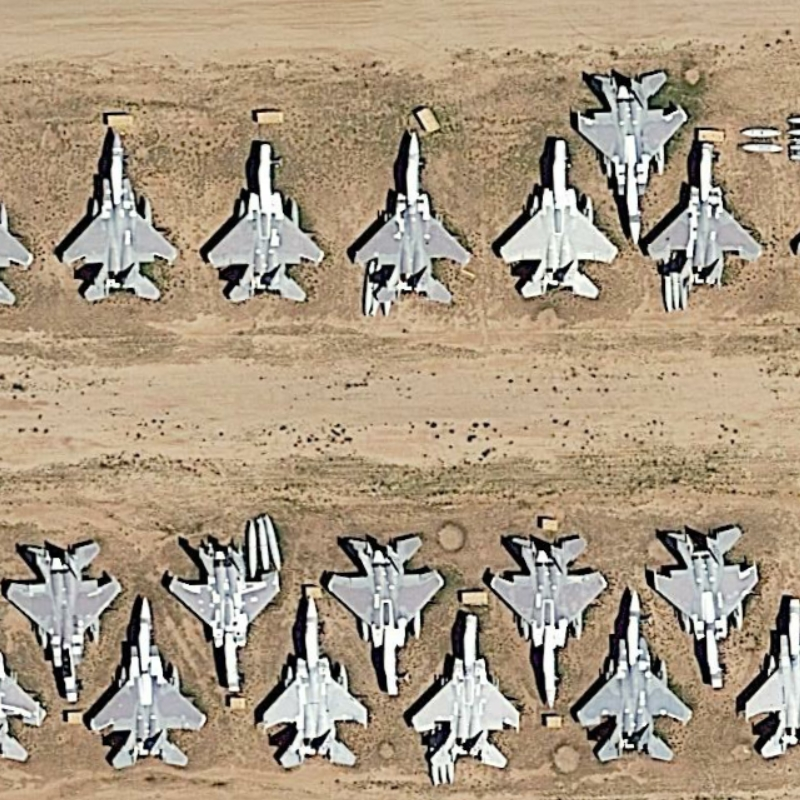A13: (479, 520, 613, 709), (350, 123, 477, 316), (496, 122, 621, 313), (320, 524, 454, 700), (56, 120, 181, 308), (569, 583, 697, 766), (203, 129, 331, 308), (400, 600, 528, 779), (256, 589, 378, 773), (568, 65, 691, 245), (646, 517, 770, 692), (87, 595, 206, 777), (643, 127, 772, 294), (4, 525, 126, 700), (159, 530, 284, 700)
